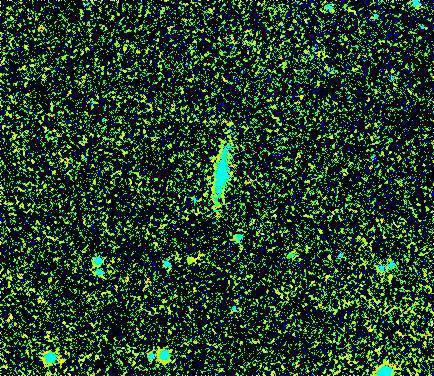star: (177, 245, 207, 275)
